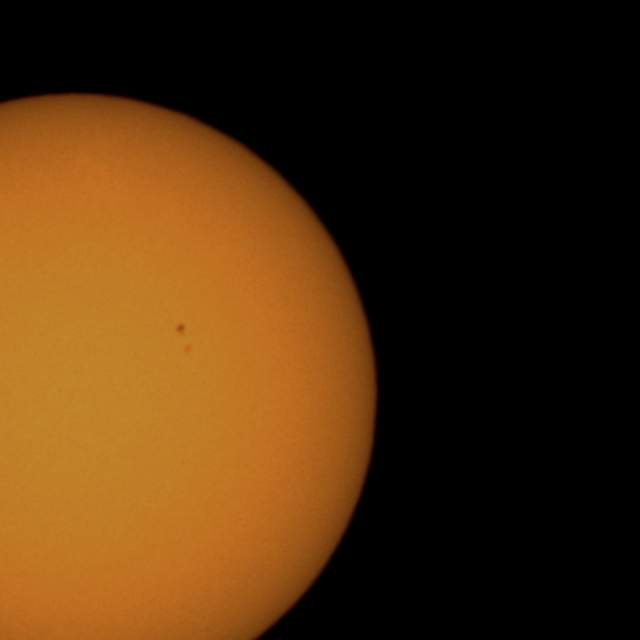sunspot: (176, 322, 194, 359), (174, 322, 186, 336)
